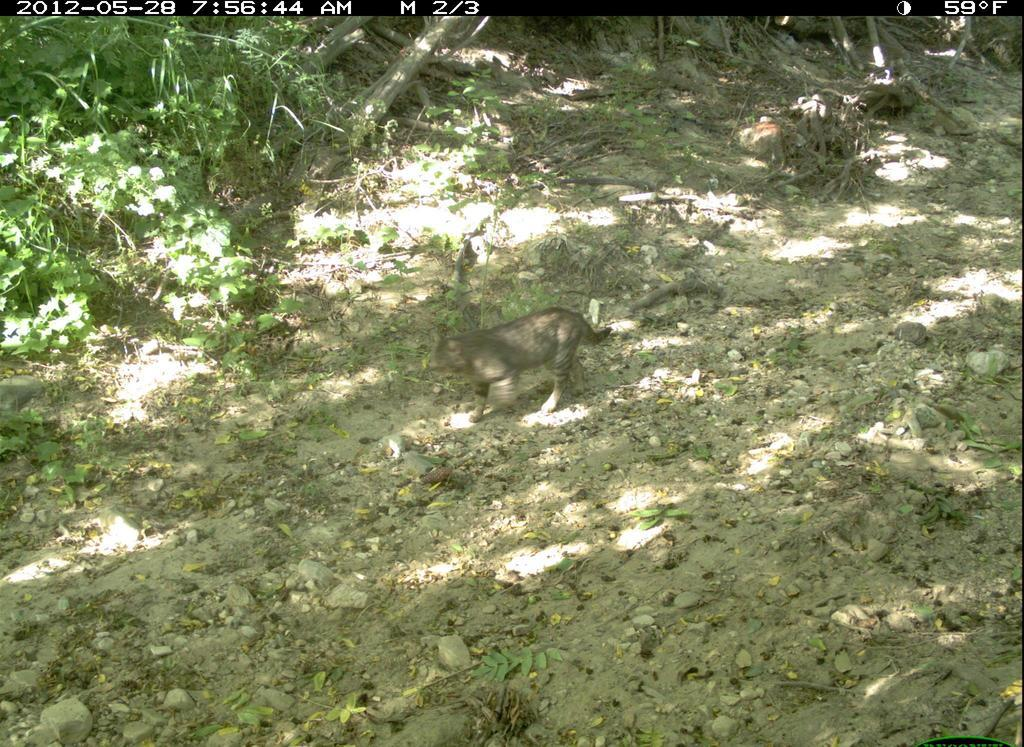cat: (419, 303, 638, 432)
